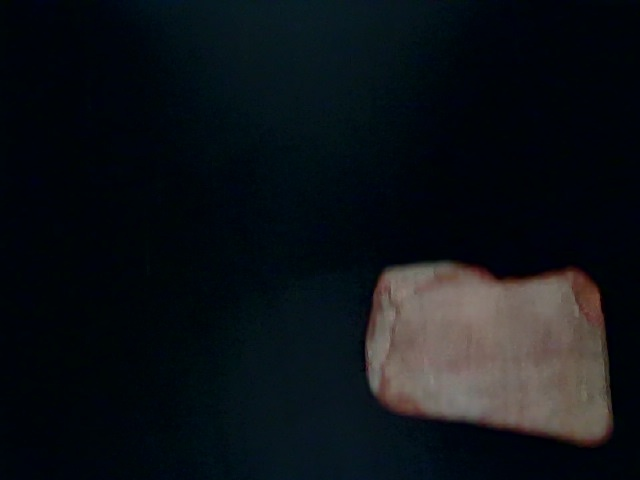KHSLJ: (165, 199, 464, 476)
